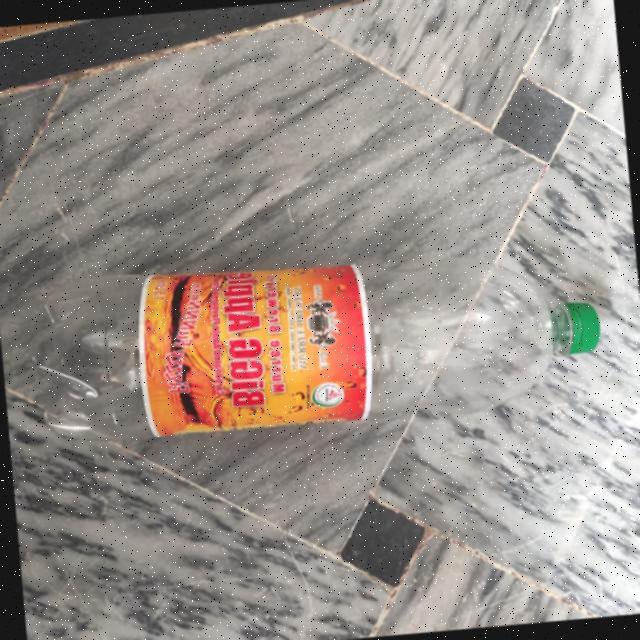bottle: (21, 234, 606, 455)
cap: (549, 298, 598, 358)
label: (140, 267, 364, 435)
